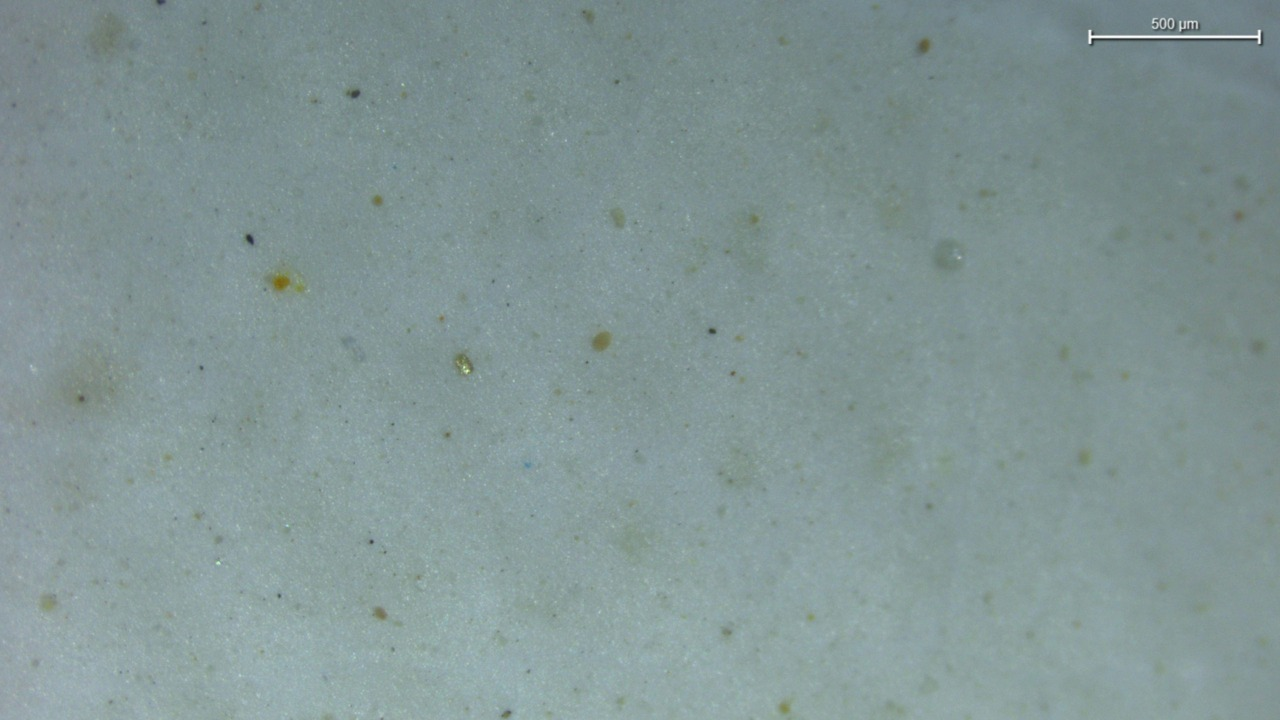microplastic_fragment: (454, 353, 474, 375)
